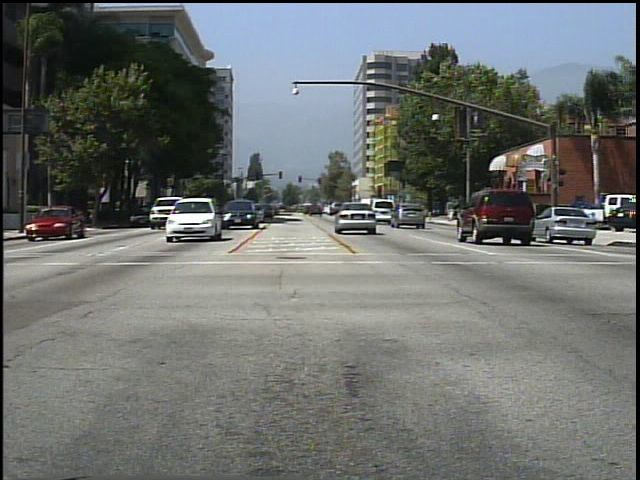person: (480, 194, 500, 229), (445, 195, 458, 224)
